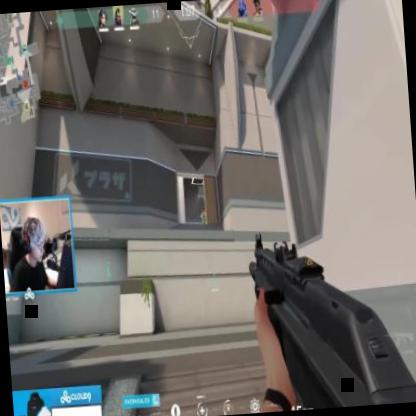enemy: (200, 209, 207, 229)
enemy_head: (202, 208, 204, 214)
